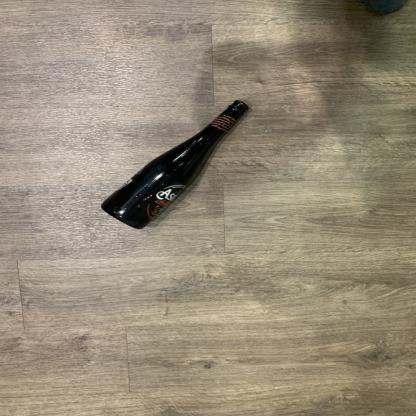trash: (96, 98, 258, 233)
